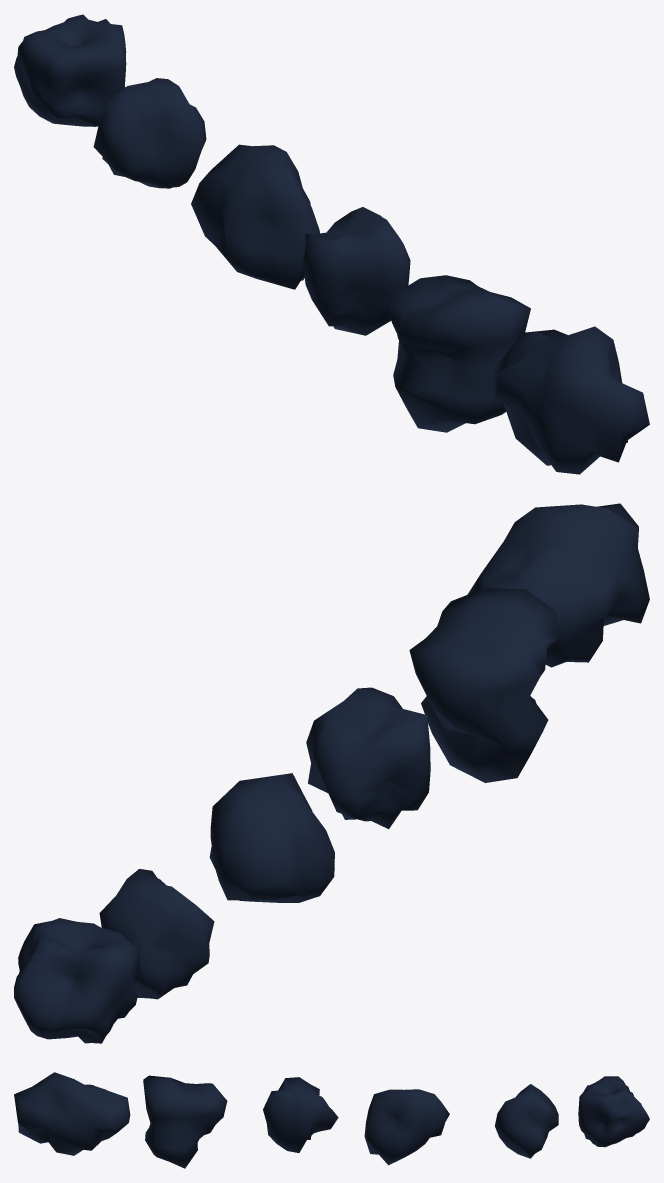
File: rocks.fbx
3 renders of one model, top to bottom at view 1: azimuth 30°, elevation 25°; view 2: azimuth 150°, elevation 25°; view 3: azimuth 270°, elevation 25°, orthographic. The views are drawn at different scales.
Visible parts, largest first — view 1: Cube.005, Cube.004, Cube.002, Cube.003, Cube, Cube.001; view 2: Cube.004, Cube.005, Cube.003, Cube.002, Cube, Cube.001; view 3: Cube.005, Cube.004, Cube.002, Cube.003, Cube, Cube.001.
Boxes of the visible parts, left/top/right/bottom form: Cube.005: left=493, top=326, right=649, bottom=474; Cube.004: left=386, top=275, right=530, bottom=432; Cube.002: left=191, top=144, right=319, bottom=289; Cube.003: left=303, top=207, right=410, bottom=335; Cube: left=14, top=14, right=126, bottom=126; Cube.001: left=93, top=78, right=206, bottom=188; Cube.004: left=409, top=588, right=557, bottom=782; Cube.005: left=467, top=503, right=649, bottom=667; Cube.003: left=306, top=687, right=430, bottom=829; Cube.002: left=209, top=773, right=334, bottom=902; Cube: left=14, top=918, right=139, bottom=1043; Cube.001: left=99, top=869, right=214, bottom=999; Cube.005: left=14, top=1072, right=130, bottom=1155; Cube.004: left=143, top=1075, right=227, bottom=1168; Cube.002: left=364, top=1089, right=449, bottom=1165; Cube.003: left=263, top=1077, right=338, bottom=1152; Cube: left=578, top=1076, right=649, bottom=1147; Cube.001: left=495, top=1084, right=558, bottom=1158.
Size of the model in its own units: 204 by 235 by 1434.
